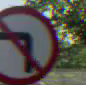Don't turn left: (0, 5, 63, 83)
